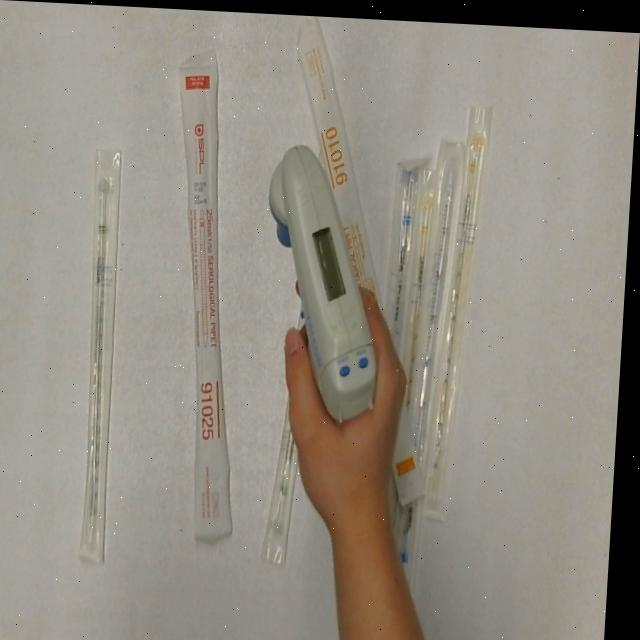Pipette Controller: (258, 136, 401, 425)
Serelogical Pipet 1 mL: (428, 93, 501, 523), (400, 158, 449, 420)
Serelogical Pipet 10 mL: (269, 12, 457, 504)
Serelogical Pipet 2 mL: (73, 134, 140, 575), (266, 388, 315, 565)
Serelogical Pipet 25 mL: (155, 43, 273, 547)
Serelogical Pipet 5 mL: (400, 136, 476, 573), (386, 149, 428, 358)
